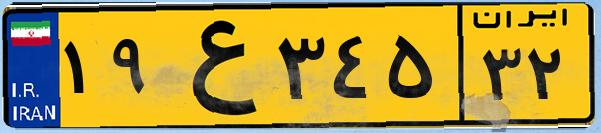1: (57, 26, 110, 100)
2: (525, 38, 570, 115)
3: (270, 28, 330, 110), (475, 38, 525, 113)
4: (330, 28, 385, 110)
5: (385, 28, 445, 110)
9: (110, 28, 158, 98)
ع: (158, 12, 270, 120)
